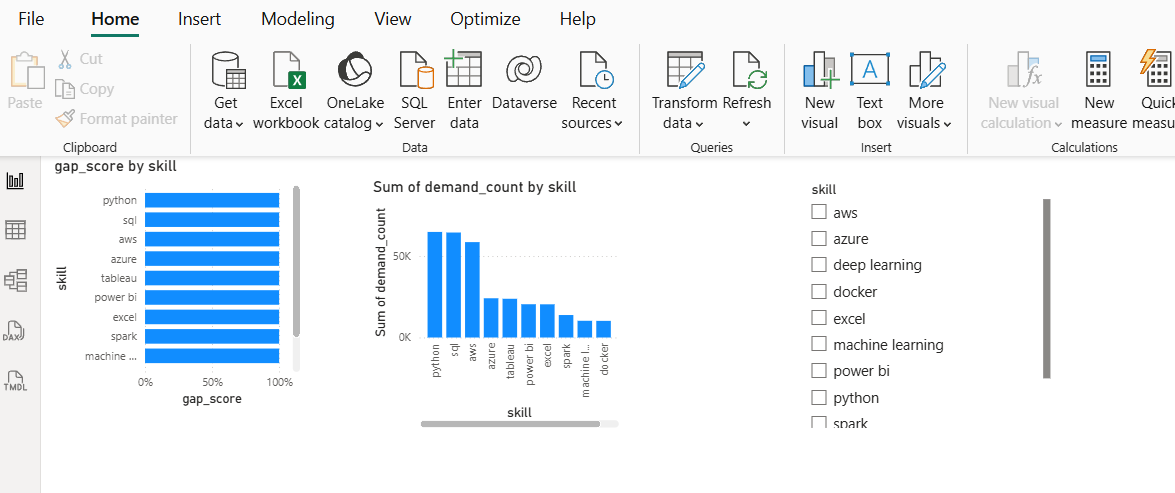

This screenshot's page, from the dashboard's own definition file:
{"tool":"powerbi","page":{"name":"Page 1","canvas":[1280,720],"ordinal":0},"visuals":[{"type":"hundredPercentStackedBarChart","fields":{"Y":["Sum(skill_gap_analysis.gap_score)"],"Category":["skill_gap_analysis.skill"]},"box":[10,0,280,280],"z":0},{"type":"slicer","fields":{"Values":["skill_gap_analysis.skill"]},"box":[832.9,23.3,279.9,279.9],"z":2},{"type":"clusteredColumnChart","fields":{"Category":["skill_gap_analysis.skill"],"Y":["Sum(skill_gap_analysis.demand_count)"]},"box":[359.5,23.3,279.9,279.9],"z":3}]}

Visuals, with their boxes on the page's 1280x720 design canvas (x1, y1, x2, y2). These are canvas units, not pixel positions in the 1175x493 screenshot, which may show the page scaled, cropped or inside an application window:
hundredPercentStackedBarChart - Sum(skill_gap_analysis.gap_score) x skill_gap_analysis.skill: 10:0:290:280
slicer - skill_gap_analysis.skill: 833:23:1113:303
clusteredColumnChart - skill_gap_analysis.skill x Sum(skill_gap_analysis.demand_count): 360:23:639:303
